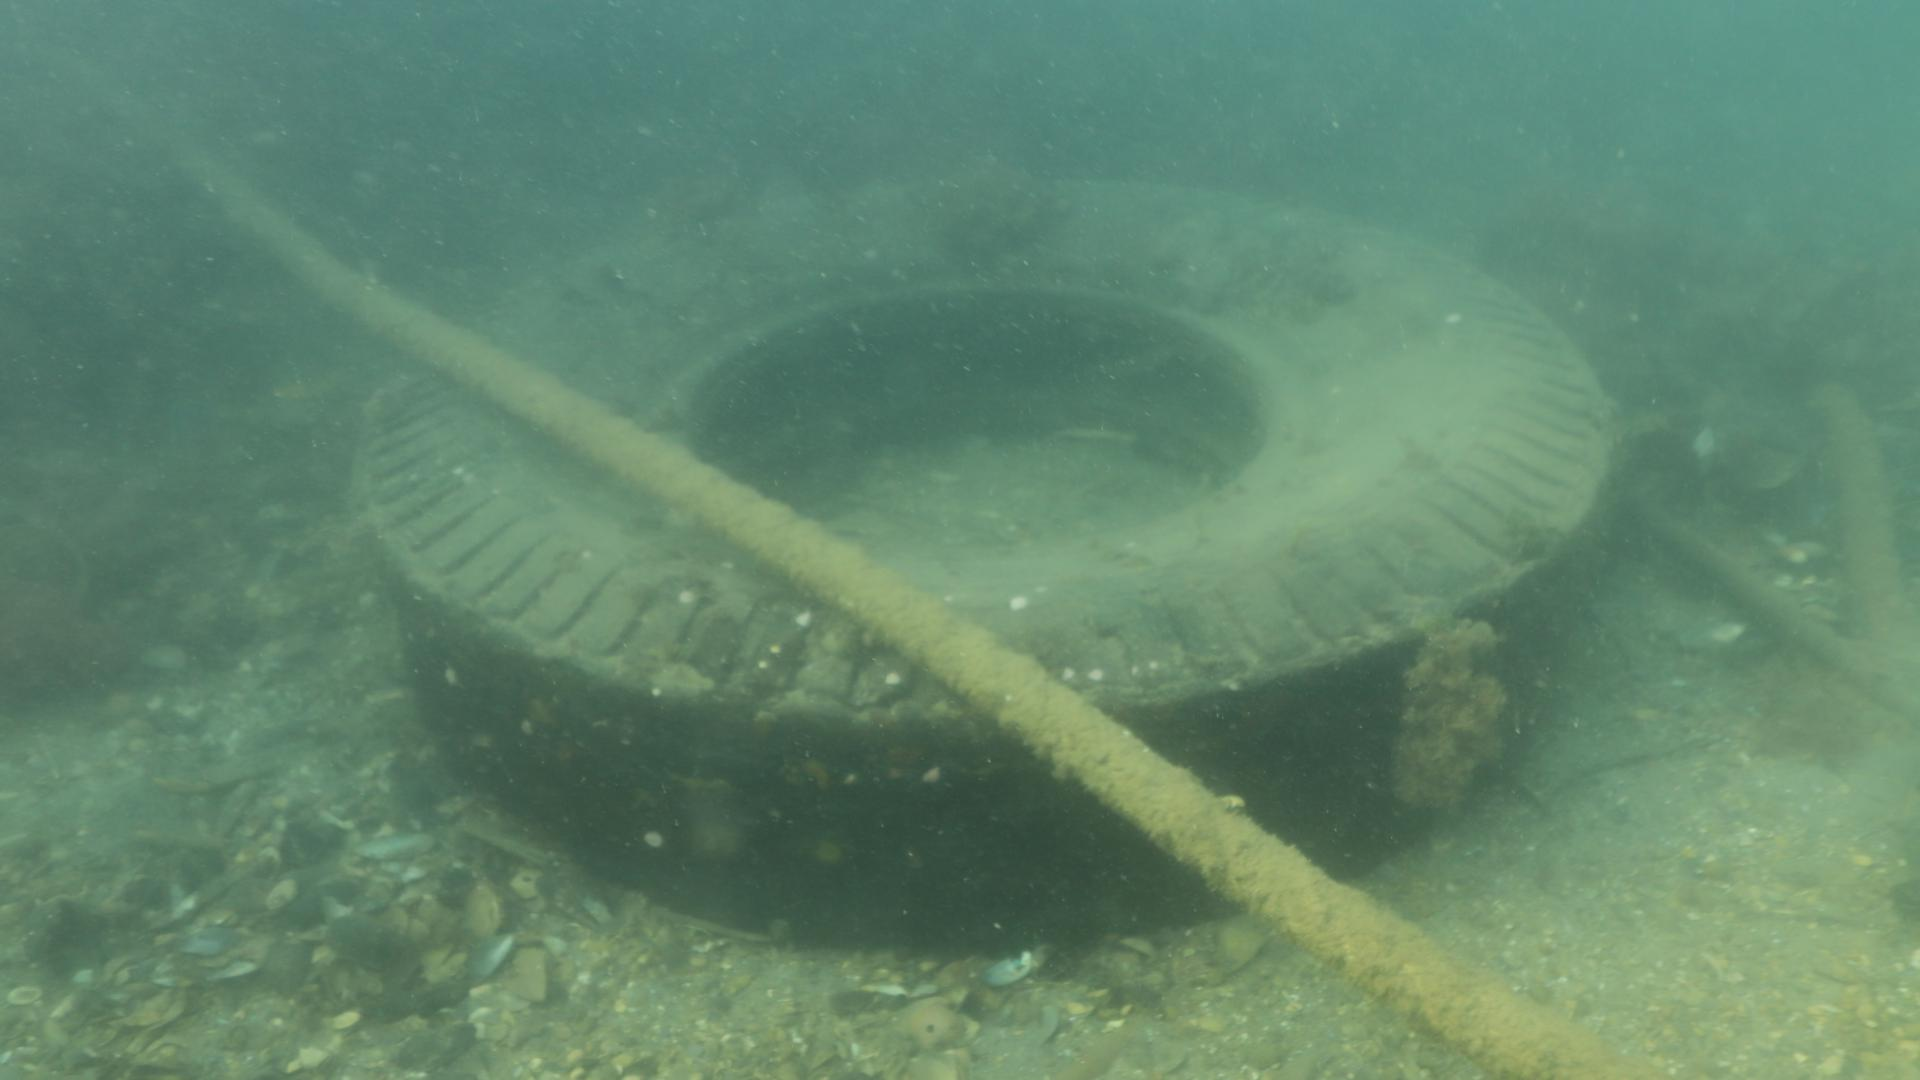rope: (253, 223, 1698, 1080)
tire: (353, 177, 1622, 952)
